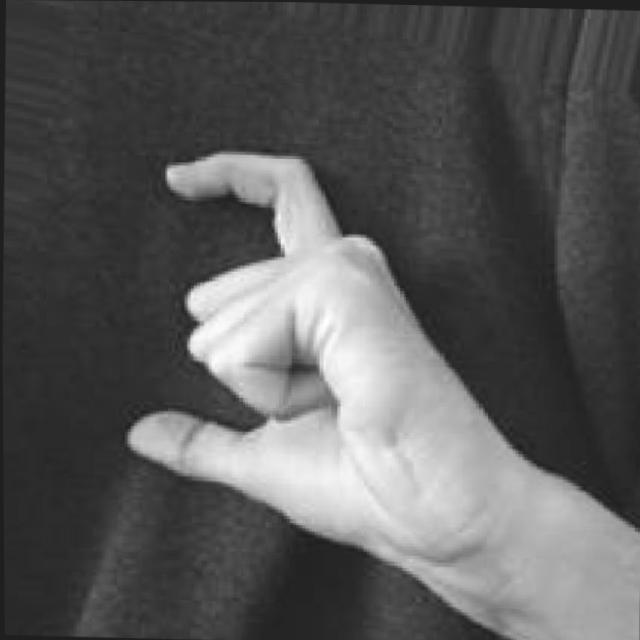C: (118, 142, 516, 594)
